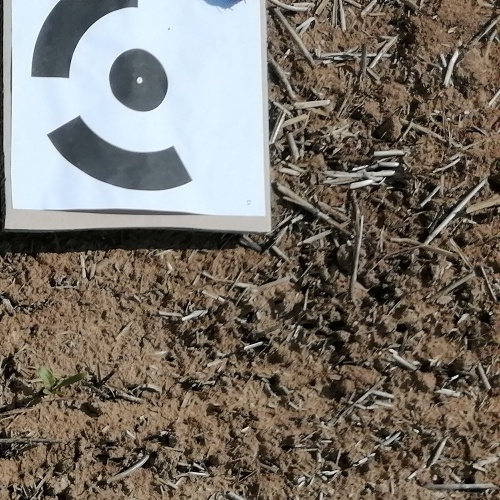beet: (36, 367, 90, 394)
